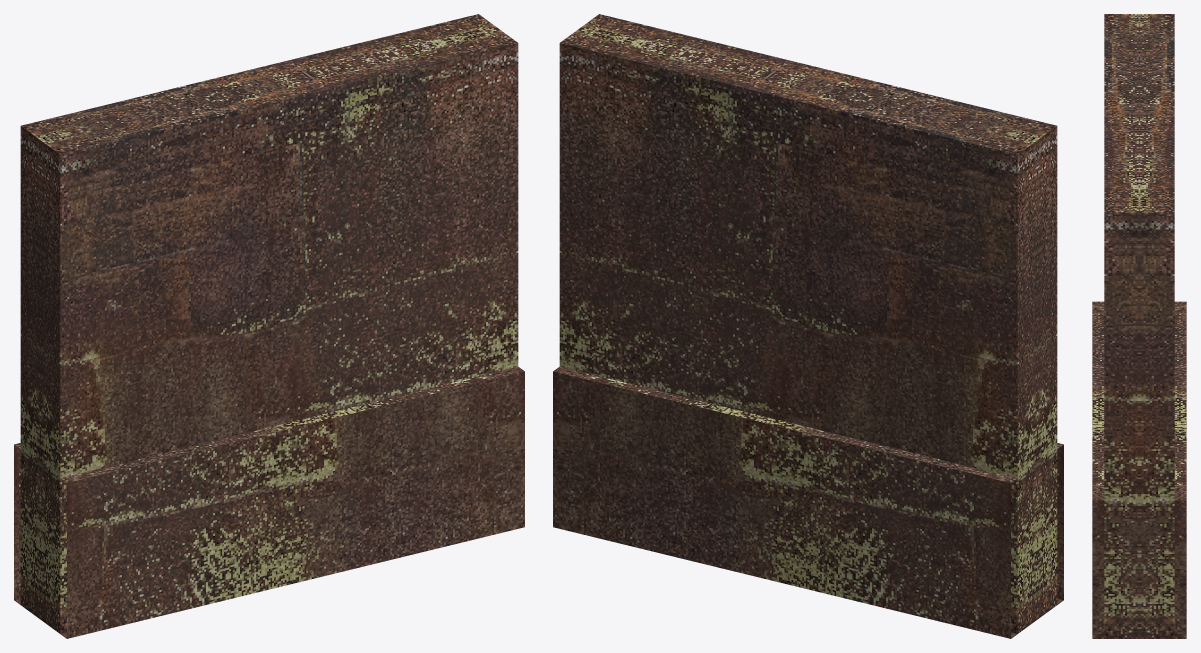
File: Ruims2.fbx
3 views of the same model, side by side, from view 1: azimuth 30°, elevation 25°; view 2: azimuth 150°, elevation 25°; view 3: azimuth 270°, elevation 25° (orthographic). The views are drawn at different scales.
Visible parts, largest first — view 1: Plane.109; view 2: Plane.109; view 3: Plane.109.
Boxes of the visible parts, x1,y1,x2,y2 form: Plane.109: [14, 14, 524, 638]; Plane.109: [553, 14, 1063, 638]; Plane.109: [1092, 14, 1186, 638].
Bounding box in the file's own units: 400 × 400 × 80.
